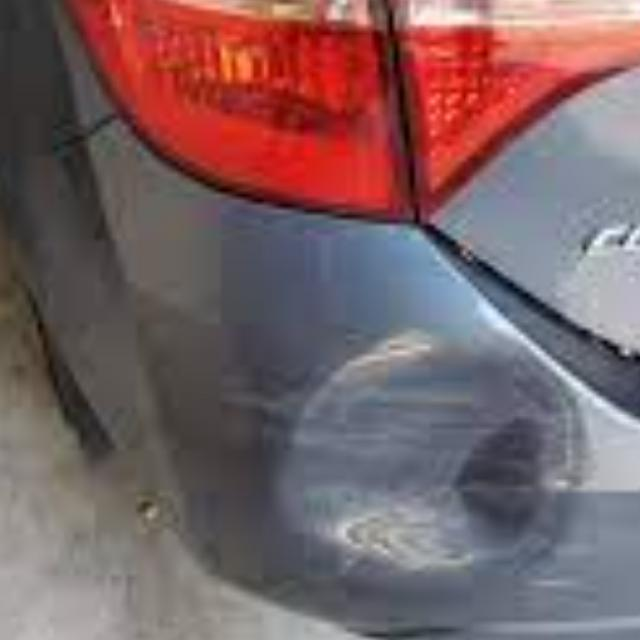dents: (284, 307, 630, 594)
